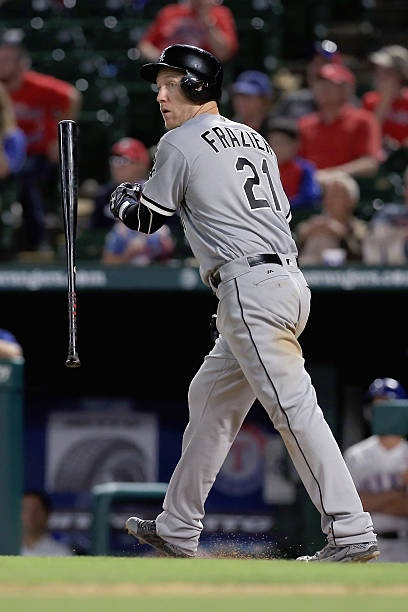bita: (47, 119, 82, 377)
